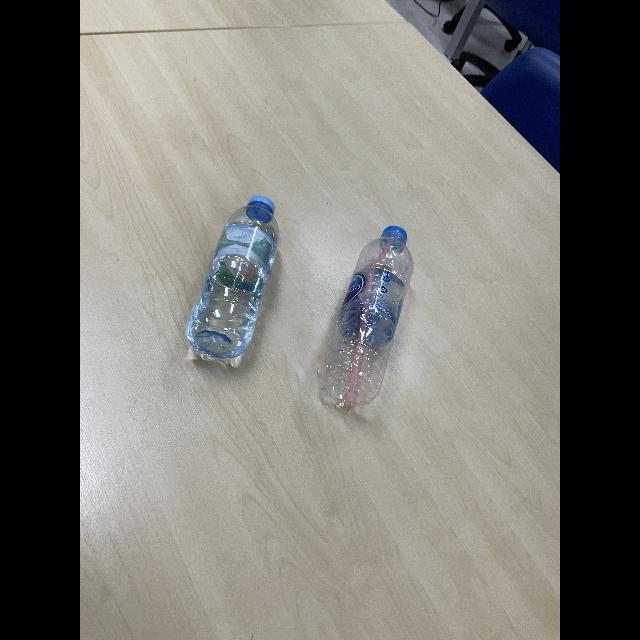plastic_bottle: (322, 227, 412, 406), (184, 194, 278, 358)
